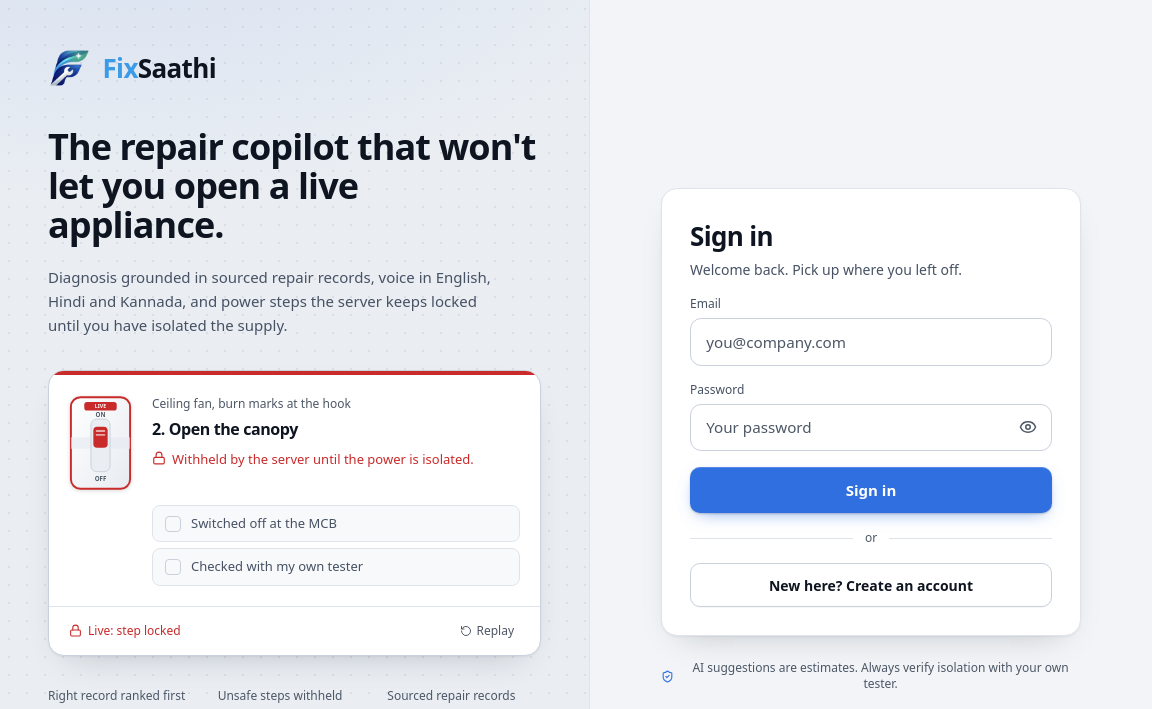
Test: password visibility › toggles between hidden and visible, keeps the value and focus, and starts hidden
Later steps or results of the test are not shown.
In the password field labelled "Password": [871, 427] box [690, 404, 1052, 451], type "secret pass 1"
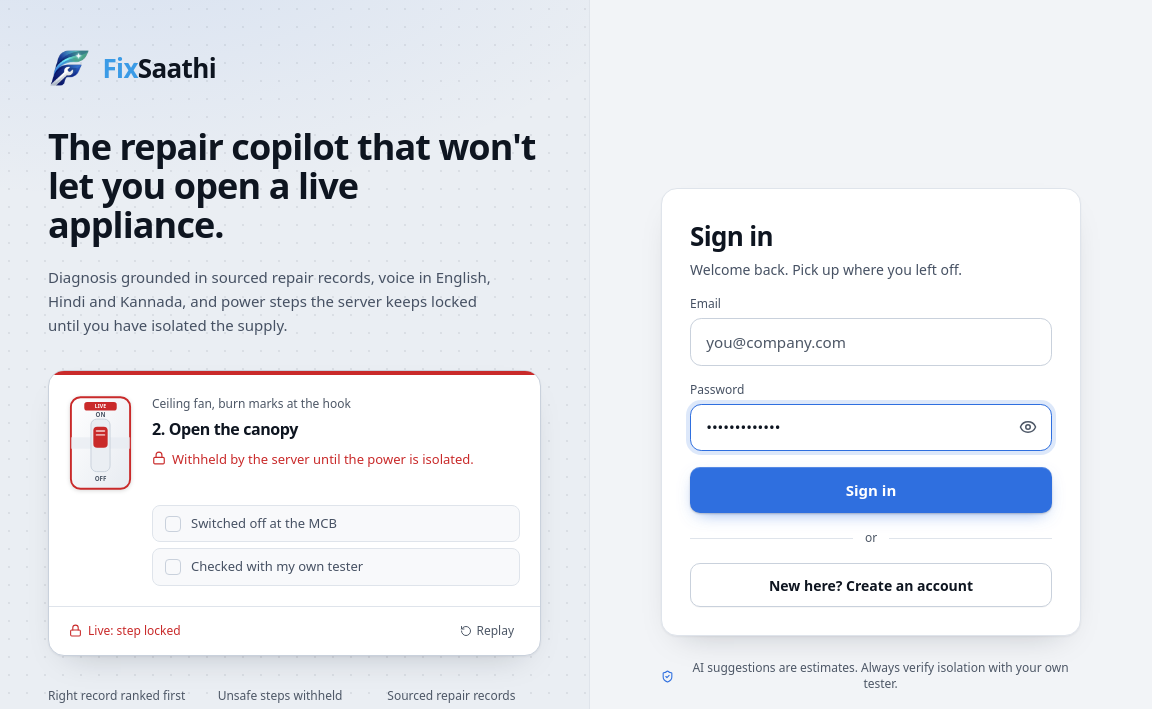
Click the button named "Show password": [1028, 427] box [1010, 409, 1046, 445]
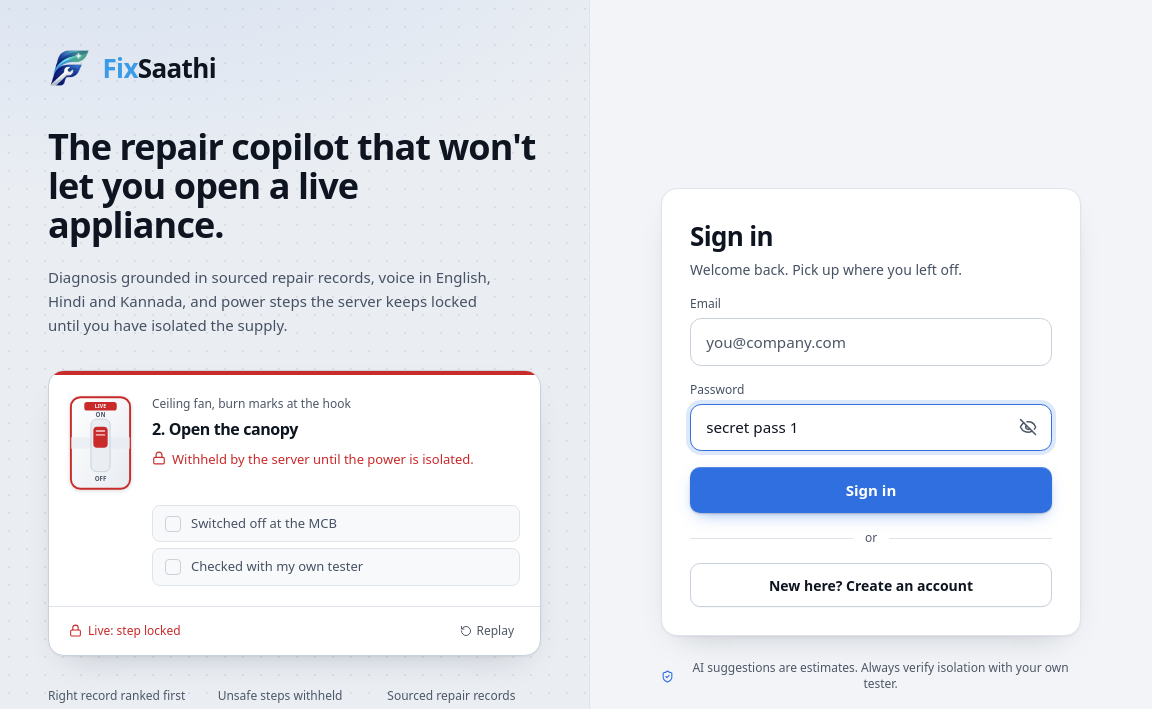
Now the button named "Hide password" is pressed, box [1010, 409, 1046, 445]
